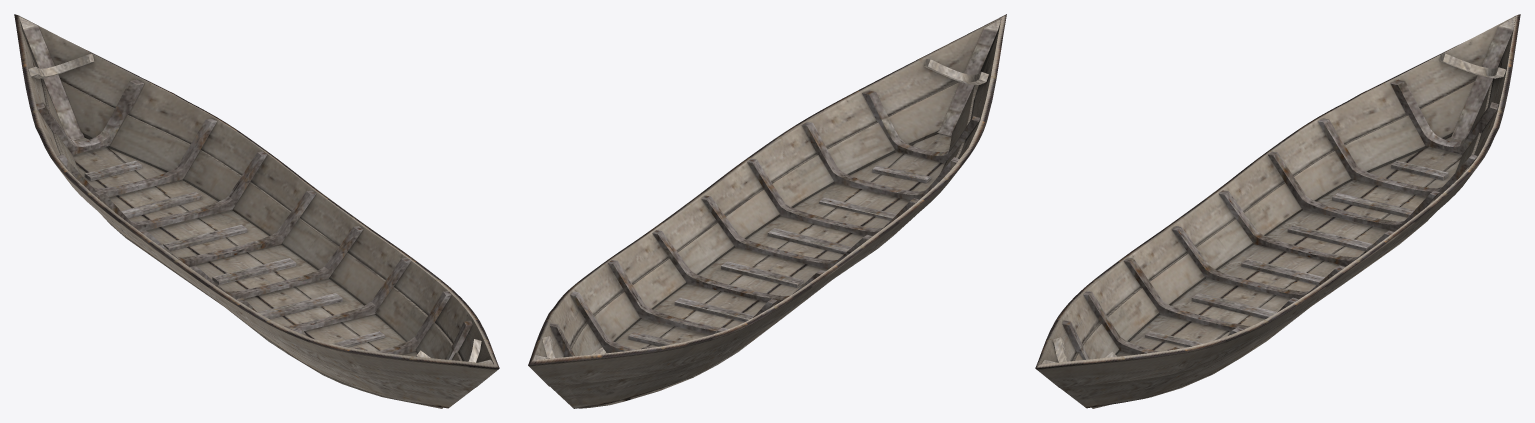
File: punter.glb
3 renders of one model, left to right at view 1: azimuth 30°, elevation 25°; view 2: azimuth 150°, elevation 25°; view 3: azimuth 330°, elevation 25°, orthographic.
Visible parts, largest first — view 1: boot_1; view 2: boot_1; view 3: boot_1.
Boxes of the visible parts, bbox=[...] form: boot_1: bbox=[14, 14, 499, 408]; boot_1: bbox=[528, 14, 1006, 408]; boot_1: bbox=[1035, 14, 1520, 408].
Size of the model in its own units: 132 by 65.5 by 606.
Materials: 1 (1 with a texture image).
